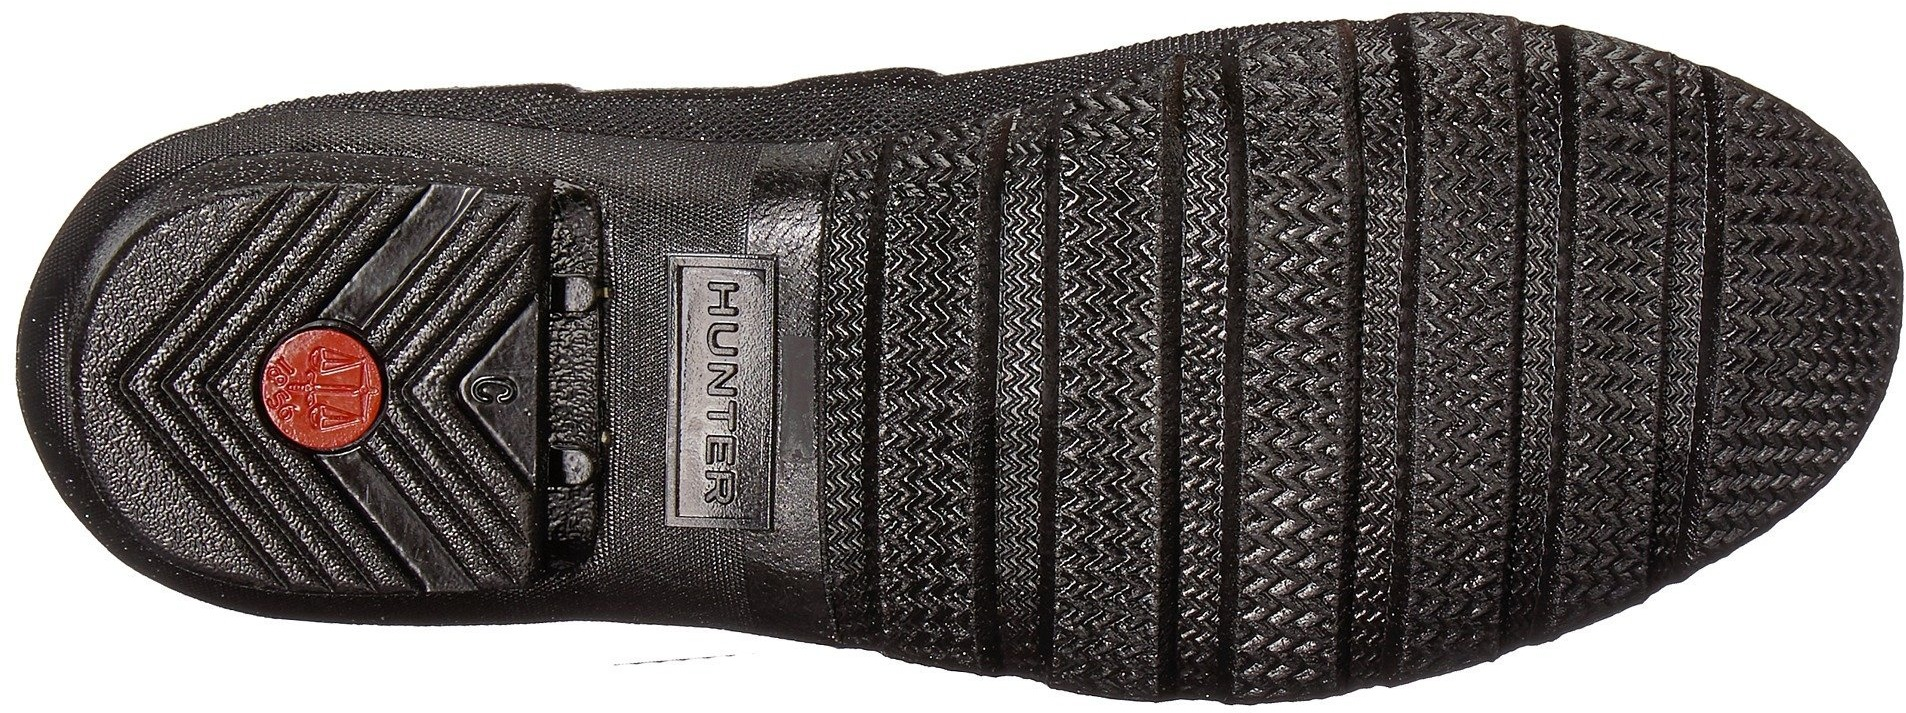chevron: (1319, 304, 1608, 536), (1045, 340, 1314, 582), (1282, 39, 1533, 293), (1619, 141, 1855, 404), (1049, 87, 1276, 336), (838, 137, 1047, 336), (829, 341, 1041, 524), (115, 275, 256, 446), (1613, 412, 1749, 537), (1324, 547, 1457, 660), (878, 536, 996, 662), (385, 309, 476, 425)
circle: (258, 321, 387, 449)
text: (258, 321, 387, 449), (676, 350, 772, 445), (675, 264, 761, 339), (683, 454, 752, 526)
